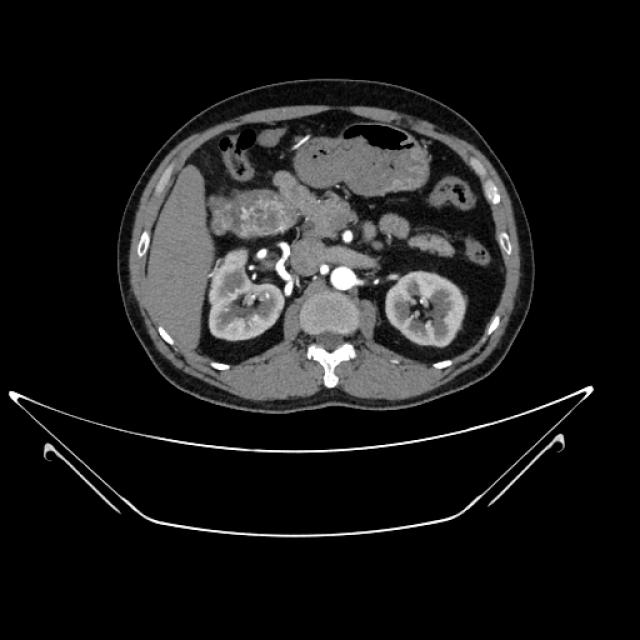Tumor: (190, 193, 331, 241)
